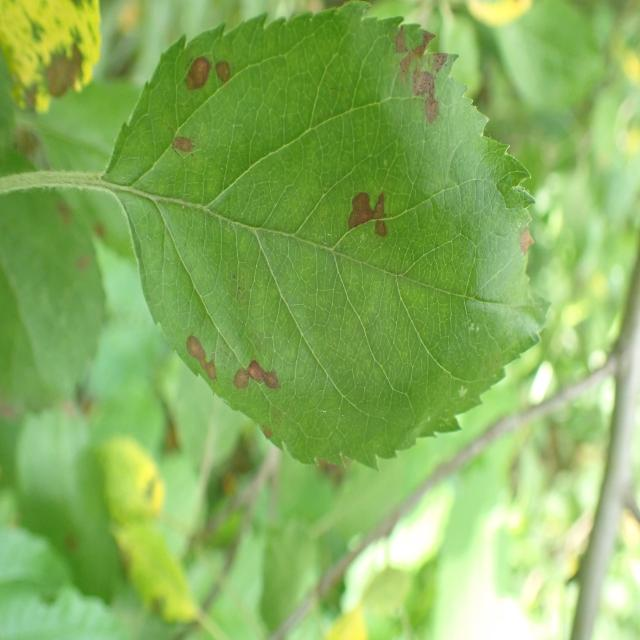Black Rot: (388, 12, 454, 144), (333, 179, 395, 254), (181, 327, 221, 396), (231, 357, 292, 402), (503, 206, 540, 278), (177, 36, 216, 99), (165, 121, 197, 170), (209, 47, 234, 103)
